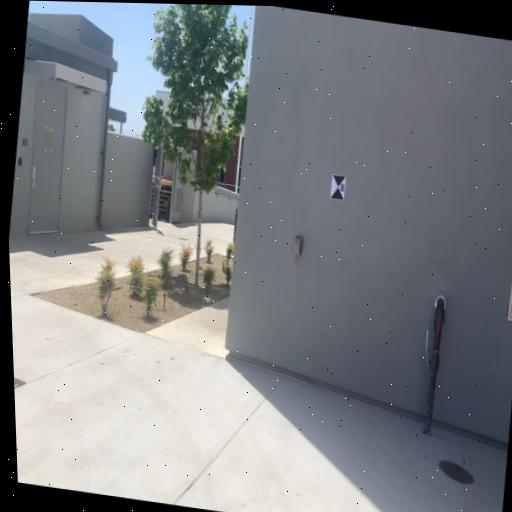target8: (329, 174, 348, 202)
